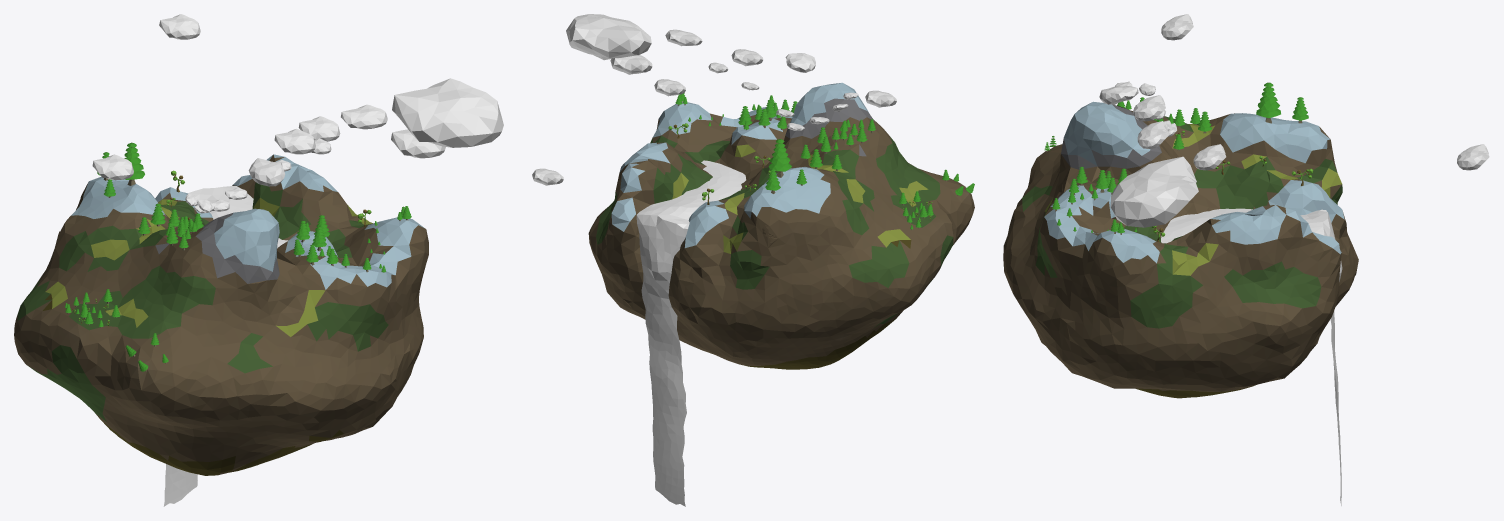
File: Floating island#7.fbx
The picture shows the model from 3 angles, left to right: view 1: azimuth 30°, elevation 25°; view 2: azimuth 150°, elevation 25°; view 3: azimuth 270°, elevation 25°; orthographic projection. The views are drawn at different scales.
Visible parts, largest first — view 1: Icosphere, Icosphere.001, Plane; view 2: Icosphere, Plane, Icosphere.001, Plane.061; view 3: Icosphere, Icosphere.001, Plane, Plane.061.
Part boxes in pixels (bbox=[...]): Icosphere: bbox=[14, 154, 428, 475]; Icosphere.001: bbox=[92, 14, 503, 213]; Plane: bbox=[163, 186, 287, 506]; Icosphere: bbox=[588, 82, 974, 369]; Plane: bbox=[636, 160, 746, 506]; Icosphere.001: bbox=[532, 14, 896, 185]; Plane.061: bbox=[768, 139, 791, 177]; Icosphere: bbox=[1003, 101, 1358, 398]; Icosphere.001: bbox=[1099, 14, 1489, 227]; Plane: bbox=[1161, 208, 1342, 505]; Plane.061: bbox=[1256, 82, 1280, 123].
Bounding box in the file's own units: 2498 × 2423 × 2552.
